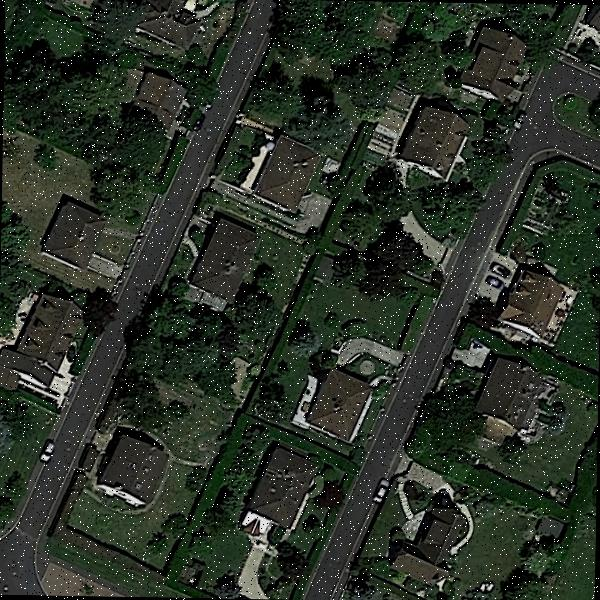Buildings: (0, 295, 93, 408), (182, 224, 273, 300), (100, 434, 176, 506), (390, 513, 467, 582), (128, 0, 230, 50), (38, 204, 110, 270), (390, 112, 468, 168), (500, 272, 561, 338), (257, 142, 313, 213), (484, 353, 534, 430), (250, 460, 312, 520), (308, 374, 364, 432), (469, 32, 521, 93), (141, 66, 194, 118), (584, 10, 600, 29)
